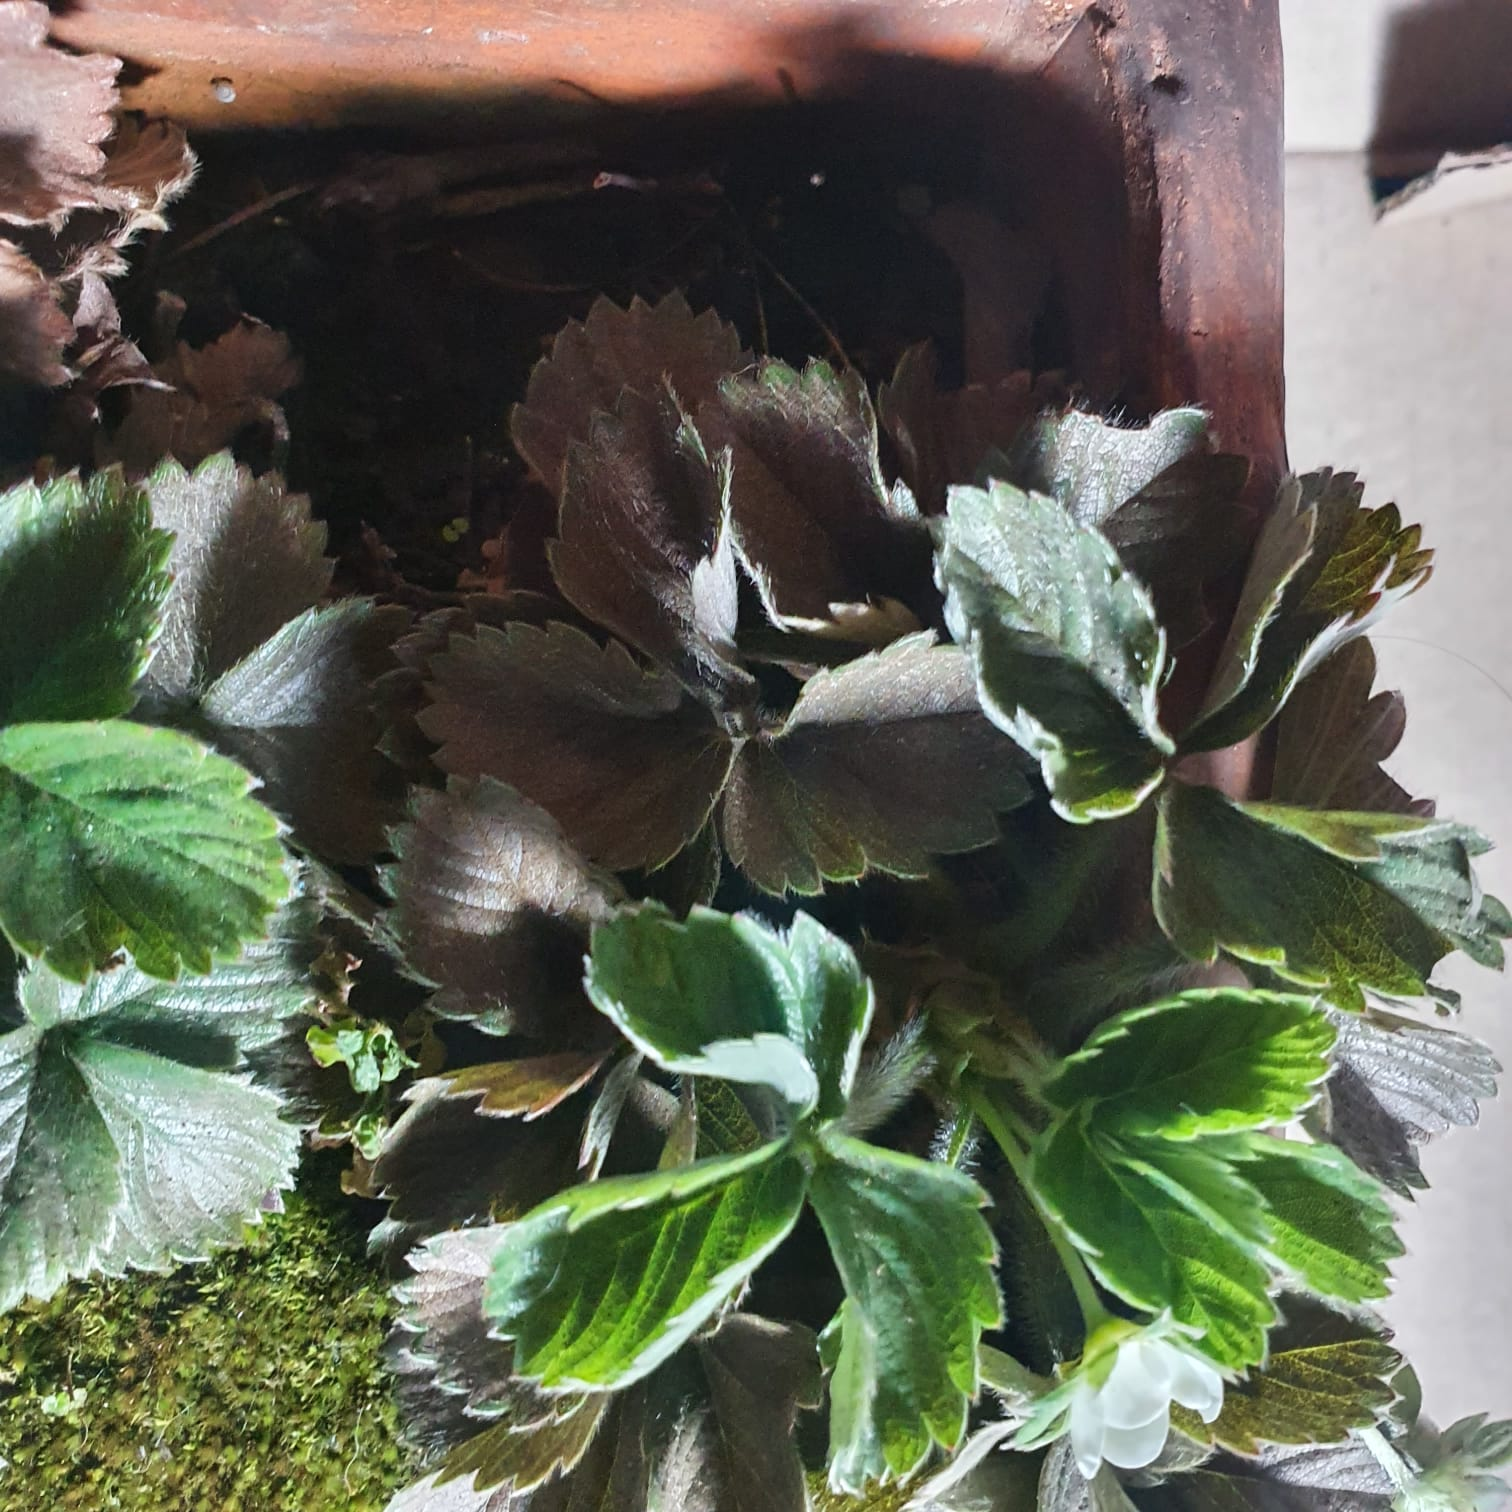tizon_tardio: (449, 335, 996, 879)
